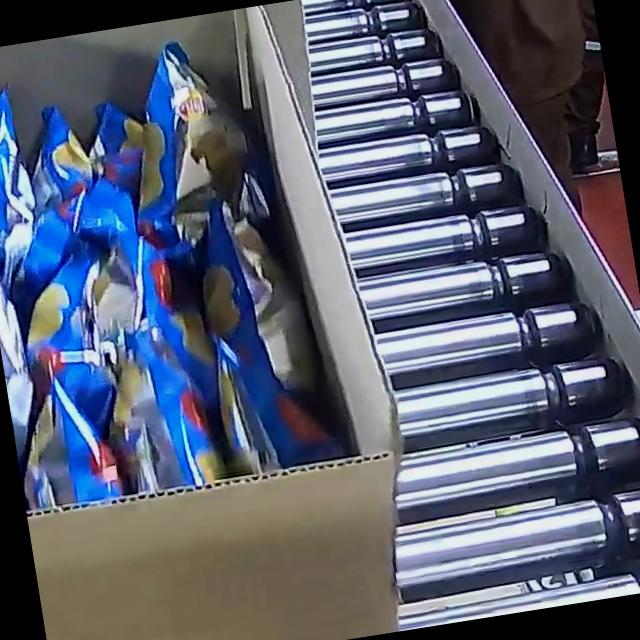paprika: (0, 22, 345, 513)
